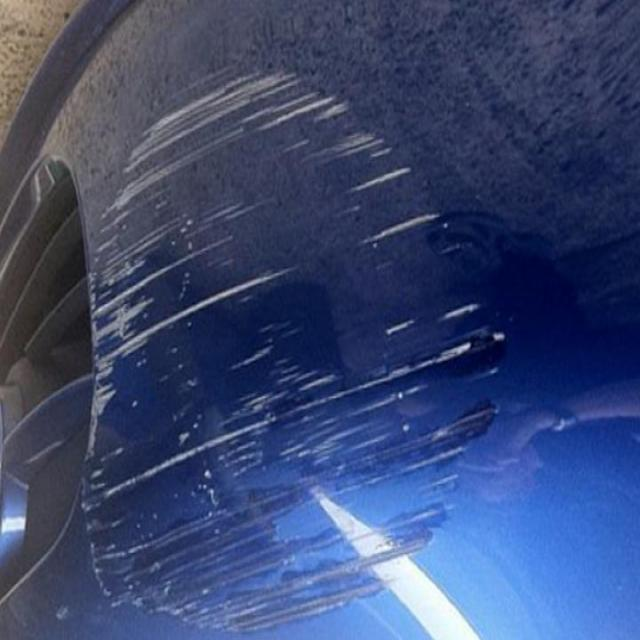scratch: (59, 19, 517, 640)
